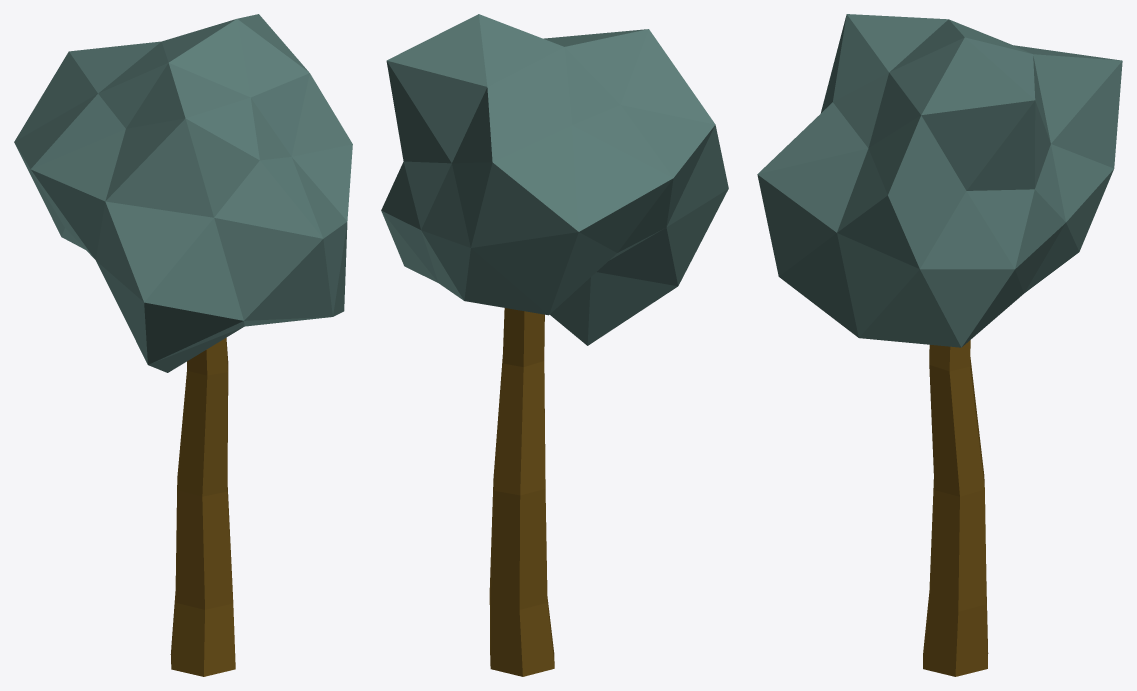
Rendered from Fantasytree2.fbx.
The picture shows the model from 3 angles, left to right: view 1: azimuth 30°, elevation 25°; view 2: azimuth 150°, elevation 25°; view 3: azimuth 270°, elevation 25°; orthographic projection.
Visible parts, largest first — view 1: pPlatonic1, pCylinder2; view 2: pPlatonic1, pCylinder2; view 3: pPlatonic1, pCylinder2.
Boxes of the visible parts, x1,y1,x2,y2 form: pPlatonic1: (14, 14, 352, 372); pCylinder2: (170, 337, 235, 676); pPlatonic1: (381, 14, 728, 345); pCylinder2: (489, 308, 554, 676); pPlatonic1: (757, 14, 1122, 347); pCylinder2: (923, 340, 988, 676).
Bounding box in the file's own units: 13.02 × 27.84 × 14.33.
